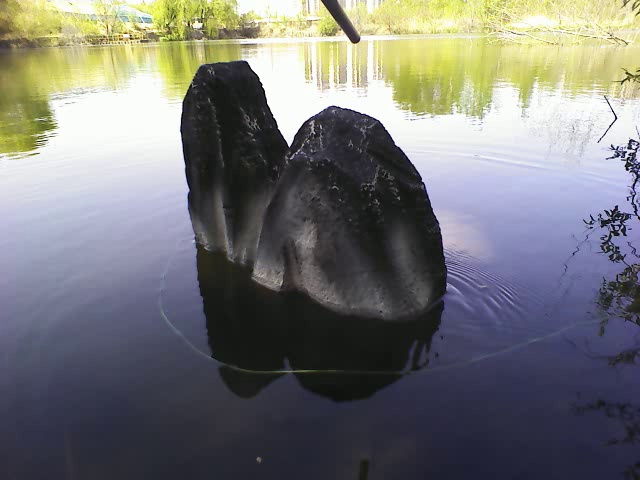rock: (181, 58, 451, 312)
